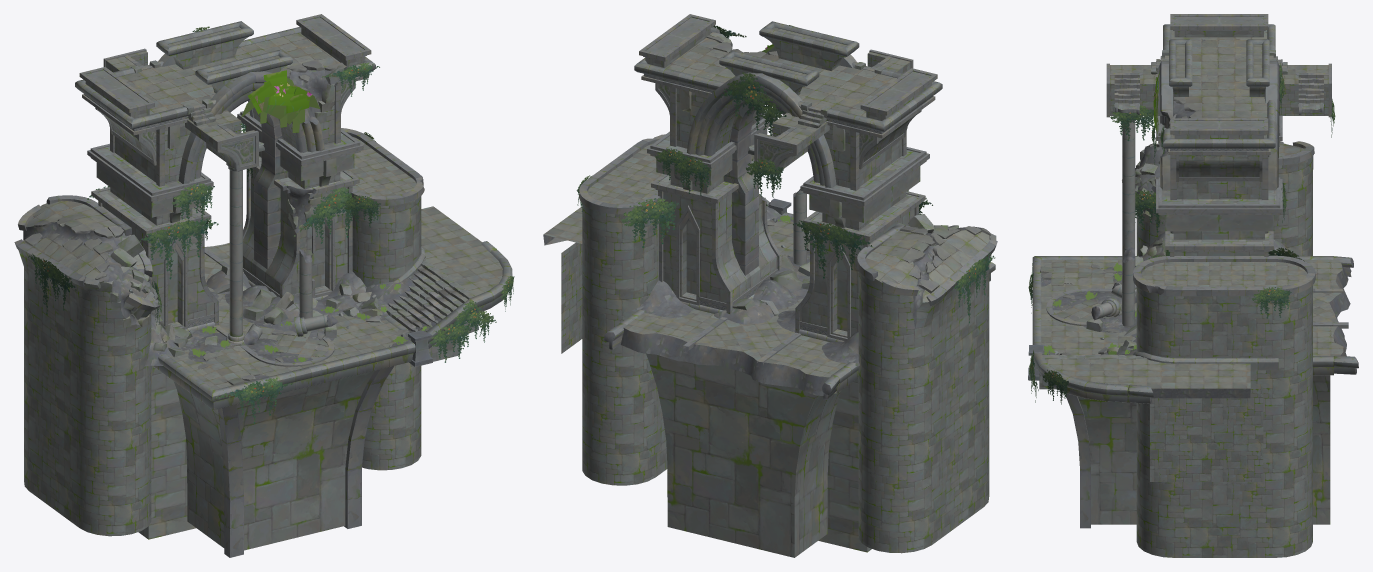
Rendered from Area_MdBuild_SdArch01_Group.fbx.
3 renders of one model, left to right at view 1: azimuth 30°, elevation 25°; view 2: azimuth 150°, elevation 25°; view 3: azimuth 270°, elevation 25°, orthographic. The views are drawn at different scales.
Visible parts, largest first — view 1: Area_MdBuild_SdArch01_Lod0, Stages_LYLvy06_Vo (1), Area_MdProps_SdPillar09_Lod0, Area_MdProps_SdStairs01_Lod0.001, Stages_LYLvy02_Vo (1), Stages_LYLvy05_Vo (1), Stages_LYLvy03_Vo (1).001, Area_MdProps_SdStairs01_Lod0, Stages_LYLvy02_Vo (3), Area_MdProps_SdPillar09_01_Lod0, Stages_LYLvy08_Vo (10), Stages_LYLvy08_Vo (1) (+5 smaller); view 2: Area_MdBuild_SdArch01_Lod0, Stages_LYLvy02_Vo (2), Stages_LYLvy06_Vo (2), Stages_LYLvy08_Vo (5), Area_MdProps_SdPillar09_01_Lod0, Stages_LYLvy02_Vo (3), Stages_LYLvy08_Vo (6), Stages_LYLvy08_Vo (9); view 3: Area_MdBuild_SdArch01_Lod0, Area_MdProps_SdPillar09_Lod0, Area_MdProps_SdPillar09_01_Lod0, Stages_LYLvy08_Vo (4), Stages_LYLvy08_Vo (7), Stages_LYLvy08_Vo (2), Stages_LYLvy08_Vo (2).001, Area_MdProps_SdPillar09_03_Lod0.
Boxes of the visible parts, x1=… form: Area_MdBuild_SdArch01_Lod0: x1=14, y1=14, x2=512, y2=557; Stages_LYLvy06_Vo (1): x1=241, y1=70, x2=320, y2=132; Area_MdProps_SdPillar09_Lod0: x1=226, y1=163, x2=244, y2=344; Area_MdProps_SdStairs01_Lod0.001: x1=391, y1=276, x2=475, y2=331; Stages_LYLvy02_Vo (1): x1=139, y1=217, x2=218, y2=279; Stages_LYLvy05_Vo (1): x1=293, y1=187, x2=354, y2=243; Stages_LYLvy03_Vo (1).001: x1=215, y1=377, x2=292, y2=423; Area_MdProps_SdStairs01_Lod0: x1=386, y1=258, x2=447, y2=316; Stages_LYLvy02_Vo (3): x1=28, y1=253, x2=76, y2=314; Area_MdProps_SdPillar09_01_Lod0: x1=299, y1=248, x2=312, y2=318; Stages_LYLvy08_Vo (10): x1=172, y1=183, x2=214, y2=223; Stages_LYLvy08_Vo (1): x1=429, y1=323, x2=471, y2=362; Area_MdBuild_SdArch01_Lod0: x1=543, y1=14, x2=997, y2=557; Stages_LYLvy02_Vo (2): x1=793, y1=220, x2=872, y2=278; Stages_LYLvy06_Vo (2): x1=720, y1=72, x2=786, y2=135; Stages_LYLvy08_Vo (5): x1=621, y1=198, x2=678, y2=247; Area_MdProps_SdPillar09_01_Lod0: x1=793, y1=189, x2=806, y2=264; Stages_LYLvy02_Vo (3): x1=952, y1=253, x2=995, y2=323; Stages_LYLvy08_Vo (6): x1=746, y1=158, x2=783, y2=197; Stages_LYLvy08_Vo (9): x1=674, y1=156, x2=711, y2=195; Area_MdBuild_SdArch01_Lod0: x1=1032, y1=14, x2=1358, y2=557; Area_MdProps_SdPillar09_Lod0: x1=1120, y1=117, x2=1136, y2=291; Area_MdProps_SdPillar09_01_Lod0: x1=1121, y1=247, x2=1135, y2=326; Stages_LYLvy08_Vo (4): x1=1110, y1=105, x2=1154, y2=140; Stages_LYLvy08_Vo (7): x1=1251, y1=287, x2=1291, y2=318; Stages_LYLvy08_Vo (2): x1=1135, y1=190, x2=1163, y2=232; Stages_LYLvy08_Vo (2).001: x1=1042, y1=369, x2=1068, y2=404; Area_MdProps_SdPillar09_03_Lod0: x1=1091, y1=297, x2=1120, y2=320.
Bounding box in the file's own units: 43.94 × 46.04 × 31.08.
9 materials, 9 textured.
